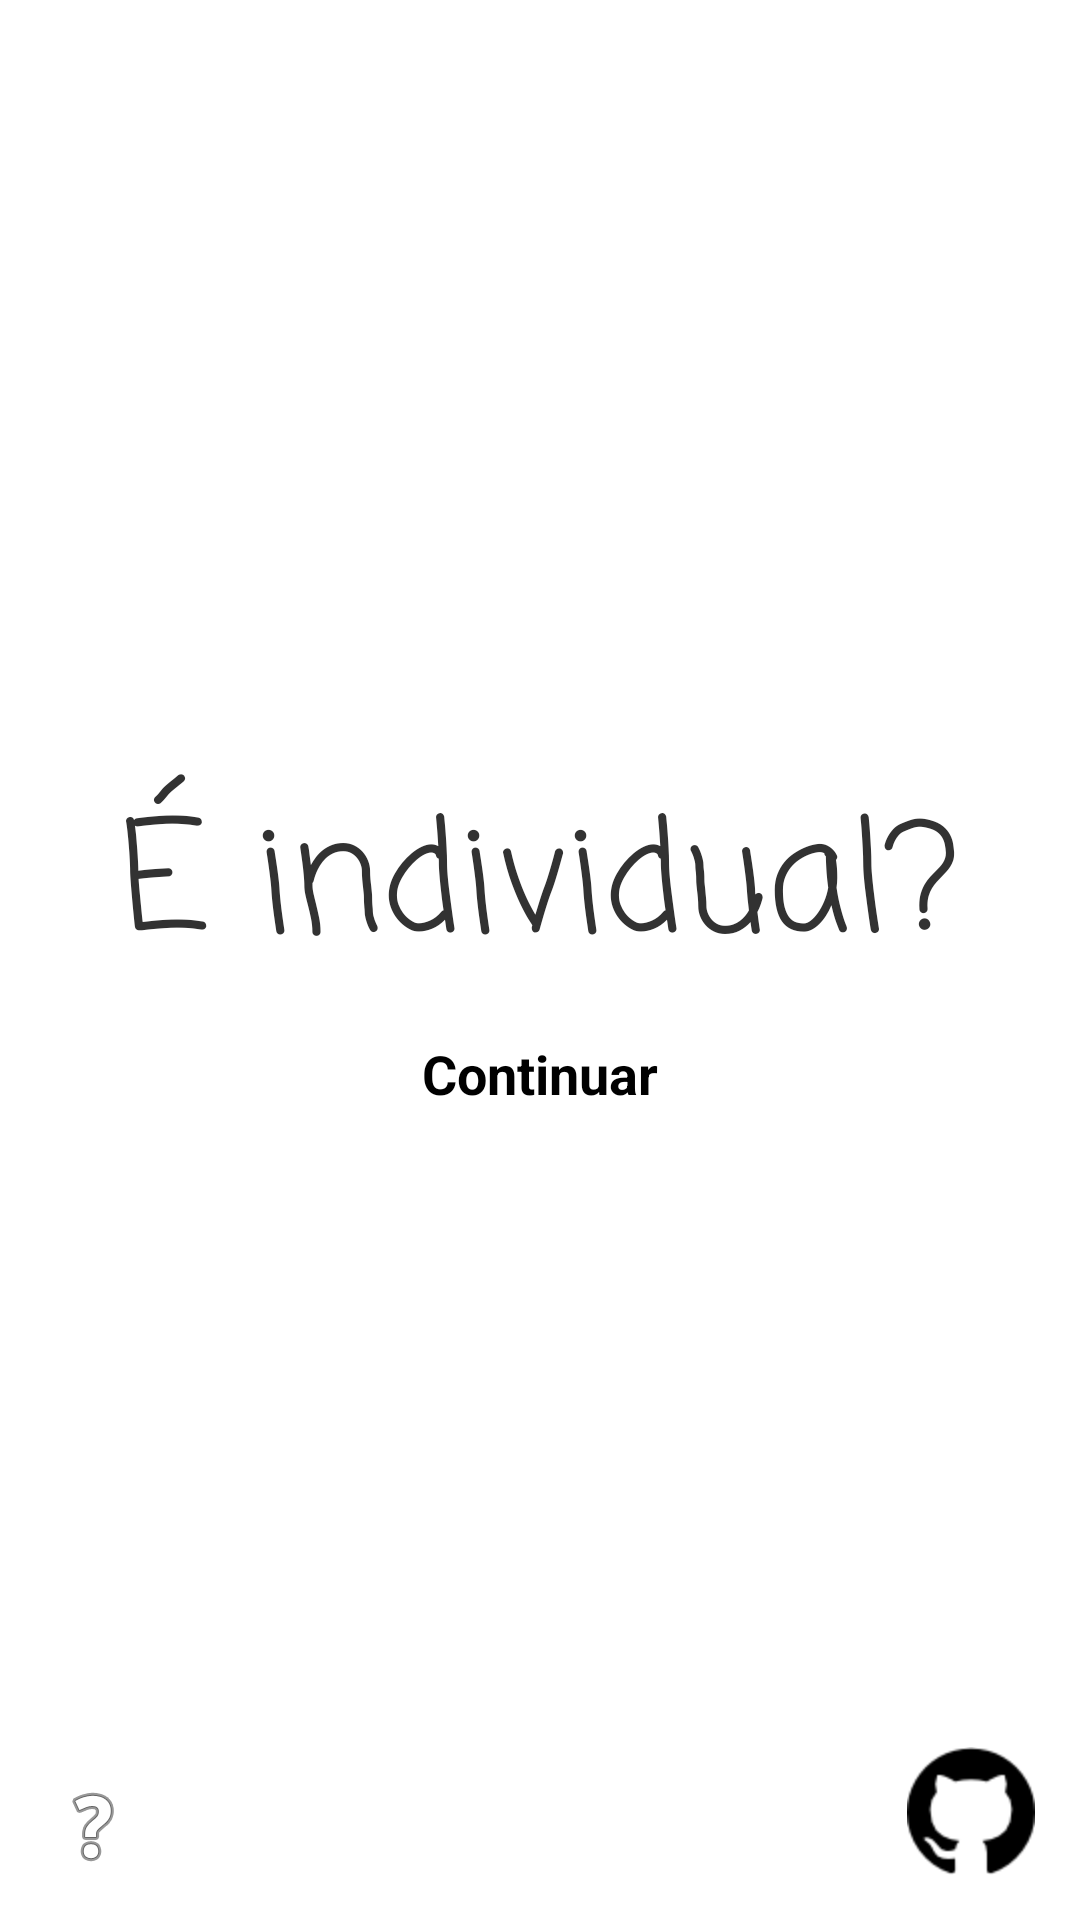

Icon click points for this 1080 x 1920 phone screenshot, format (x=x, y=y):
help: (x=93, y=1827)
